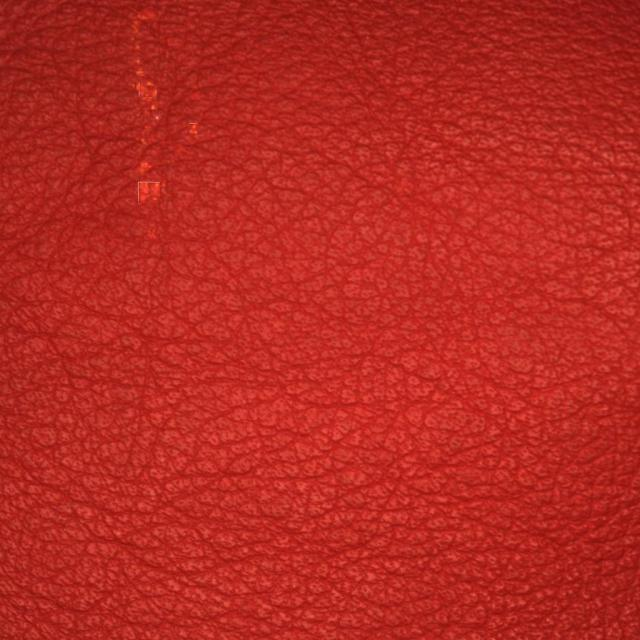Rotten surface: (46, 25, 287, 219)
